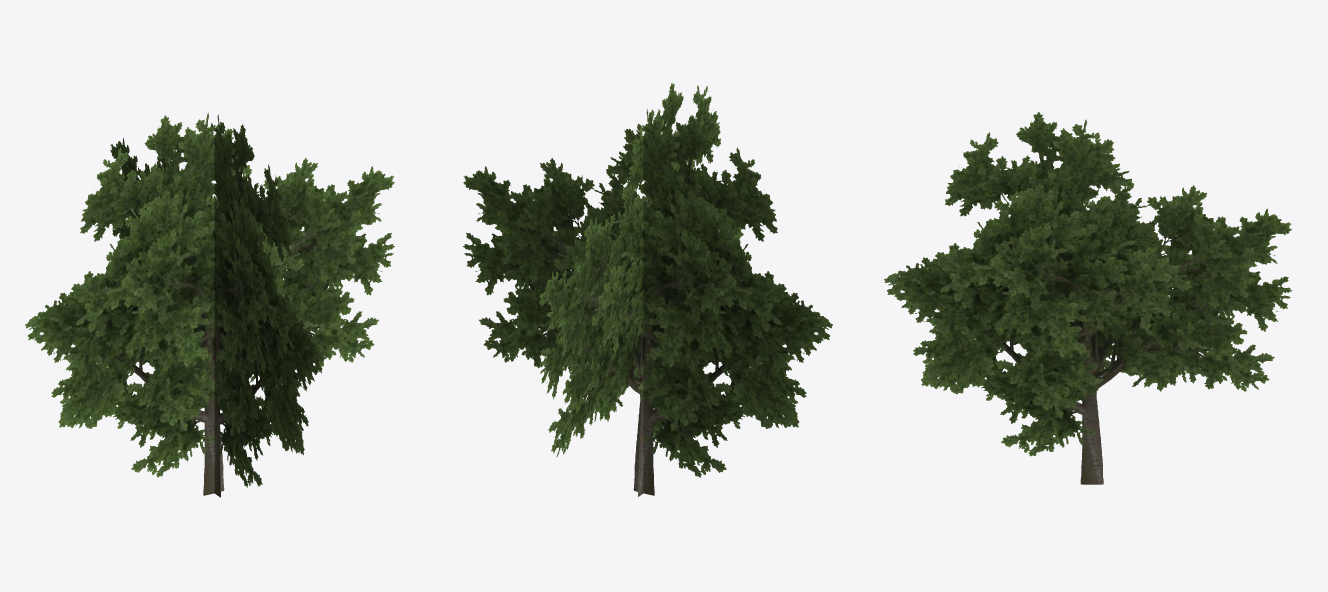
The model's file is baum_laub_1_lod2.glb.
3 renders of one model, left to right at view 1: azimuth 30°, elevation 25°; view 2: azimuth 150°, elevation 25°; view 3: azimuth 270°, elevation 25°, orthographic. The views are drawn at different scales.
Parts seen in each view (by area): view 1: Billboard; view 2: Billboard; view 3: Billboard.
Boxes of the visible parts, x1,y1,x2,y2 form: Billboard: (25, 112, 394, 497); Billboard: (463, 83, 832, 496); Billboard: (884, 112, 1292, 484).
Size of the model in its own units: 13.79 by 13 by 13.79.
Materials: 1 (1 with a texture image).
